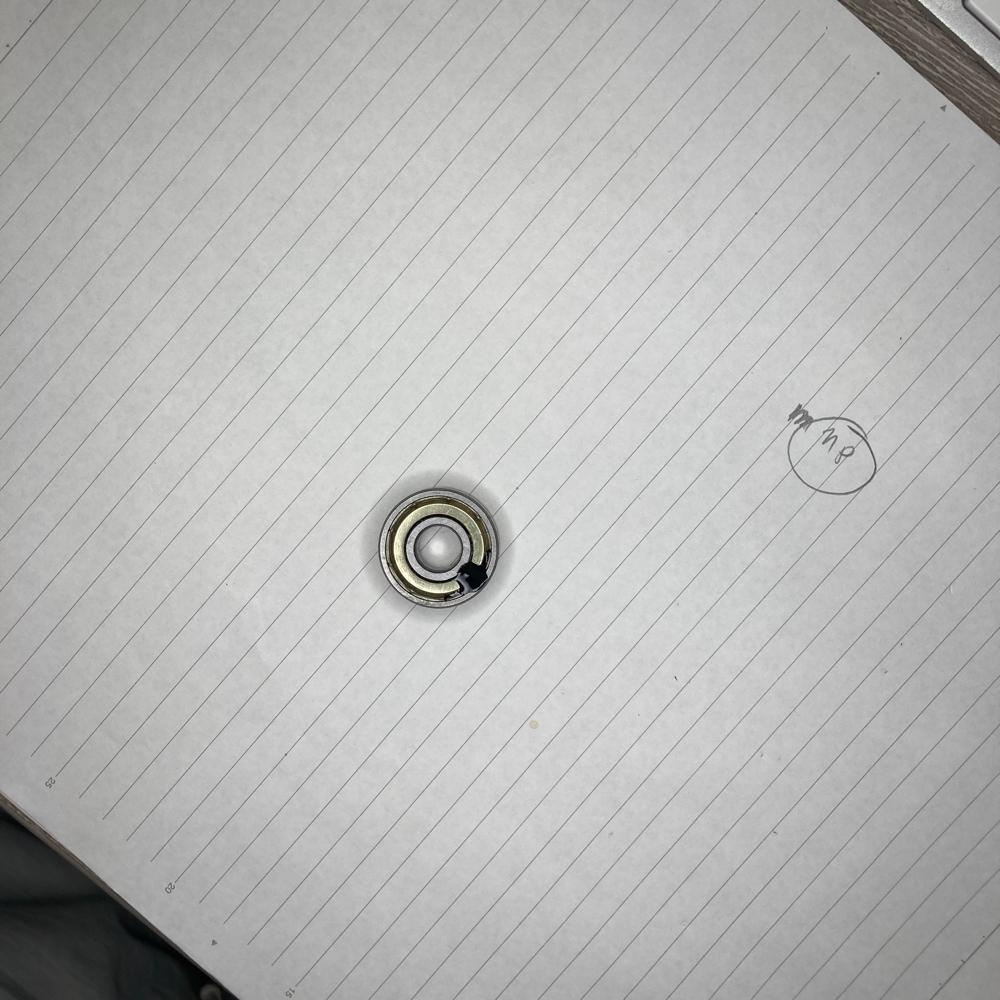ball_bearing_oil_stain: (377, 486, 501, 610)
